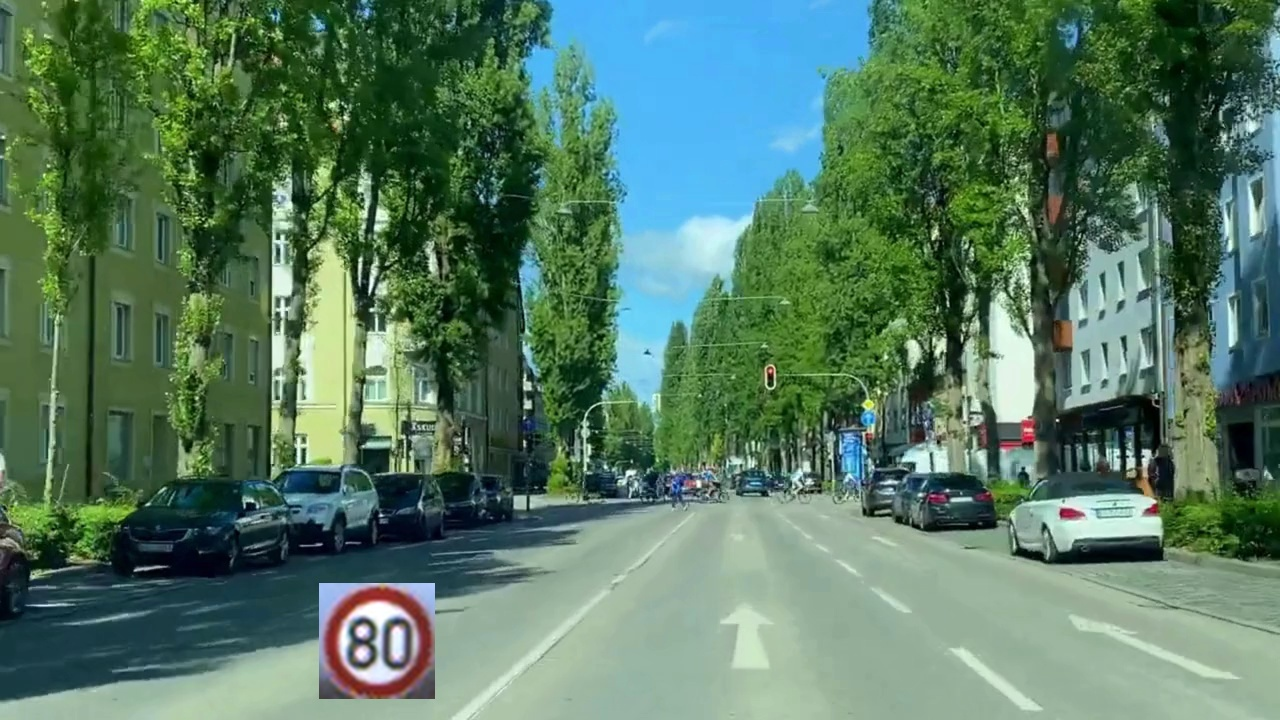Speed 80: (319, 583, 435, 699)
